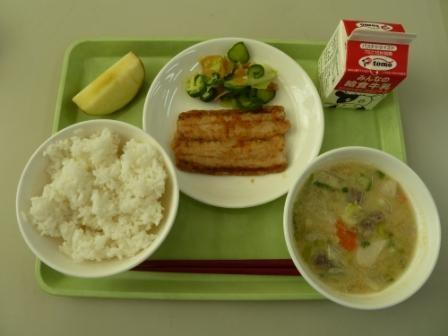Apple: (68, 45, 148, 120)
Fish: (167, 100, 296, 186)
Milk: (311, 18, 422, 110)
Rice: (14, 125, 176, 265)
Salad: (177, 36, 282, 106)
Soups: (282, 156, 432, 302)
